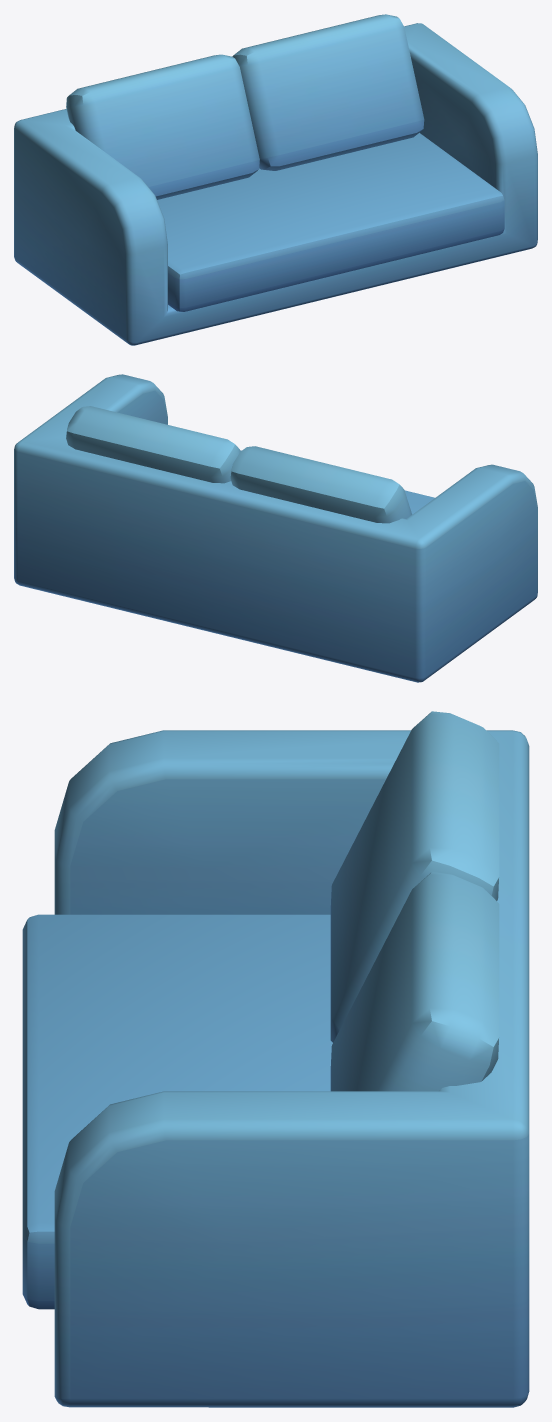
File: couch.glb
The picture shows the model from 3 angles, top to bottom: view 1: azimuth 30°, elevation 25°; view 2: azimuth 150°, elevation 25°; view 3: azimuth 270°, elevation 25°; orthographic projection. The views are drawn at different scales.
Parts seen in each view (by area): view 1: couch; view 2: couch; view 3: couch.
Part boxes in pixels (<box>): couch: <box>14,14,537,345</box>; couch: <box>14,374,537,682</box>; couch: <box>22,711,529,1407</box>.
Bounding box in the file's own units: 3 × 1.22 × 1.6.
1 material, 1 textured.
